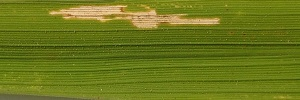RiceBacterialBlight: (45, 2, 227, 35)
